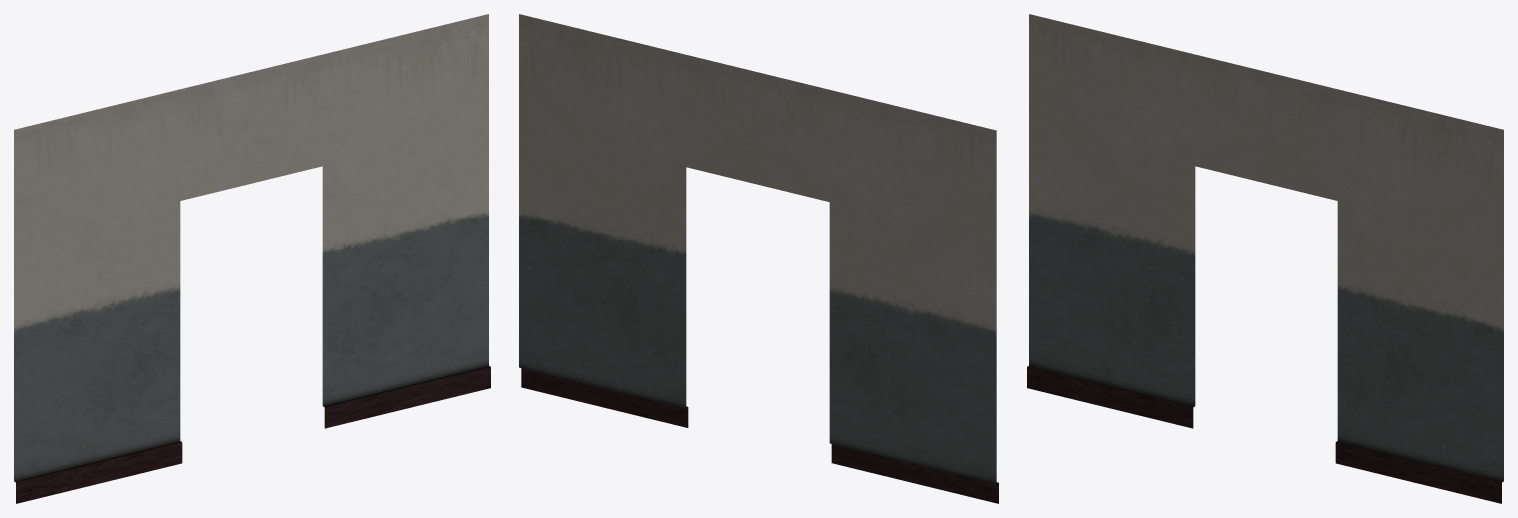
The model's file is Wall 4 Door A.fbx.
3 views of the same model, side by side, from view 1: azimuth 30°, elevation 25°; view 2: azimuth 150°, elevation 25°; view 3: azimuth 330°, elevation 25° (orthographic).
Visible parts, largest first — view 1: Wall_4_Door_A; view 2: Wall_4_Door_A; view 3: Wall_4_Door_A.
Boxes of the visible parts, bbox=[...] form: Wall_4_Door_A: bbox=[14, 14, 490, 503]; Wall_4_Door_A: bbox=[519, 14, 998, 503]; Wall_4_Door_A: bbox=[1027, 14, 1503, 503].
Bounding box in the file's own units: 400 × 300 × 3.
